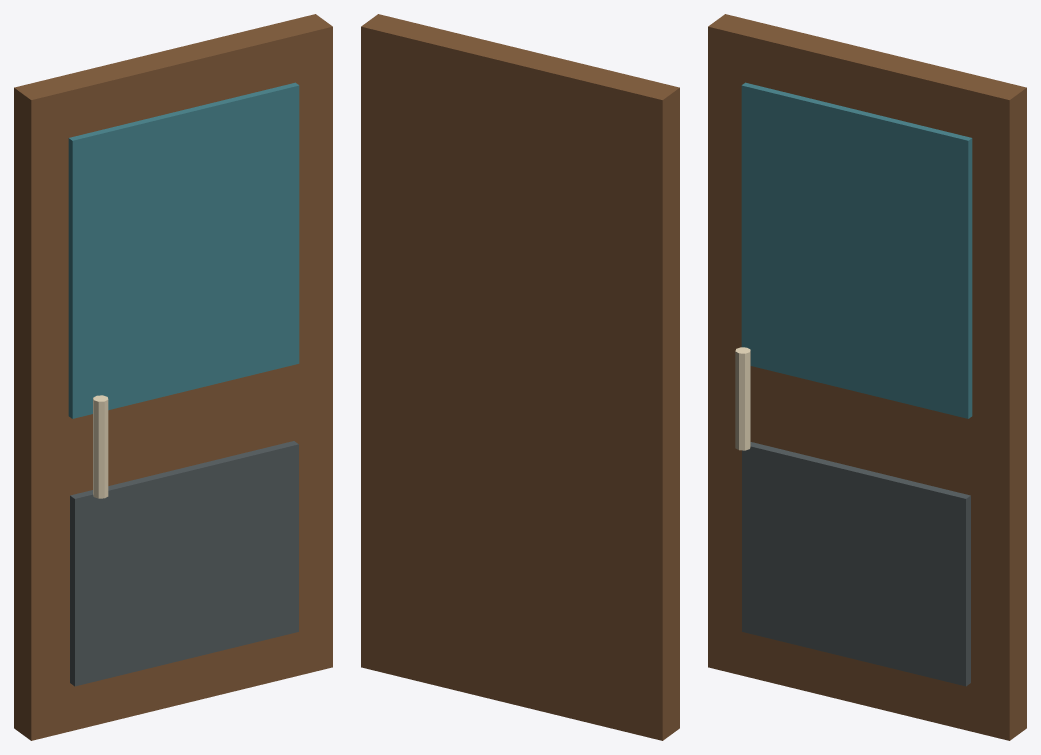
Rendered from SM_Dormitory_Door_Right.fbx.
3 views of the same model, side by side, from view 1: azimuth 30°, elevation 25°; view 2: azimuth 150°, elevation 25°; view 3: azimuth 330°, elevation 25° (orthographic).
Parts seen in each view (by area): view 1: DORM_14_Entry_Door_Right.001; view 2: DORM_14_Entry_Door_Right.001; view 3: DORM_14_Entry_Door_Right.001.
Boxes of the visible parts, x1,y1,x2,y2 form: DORM_14_Entry_Door_Right.001: (14,14,332,740); DORM_14_Entry_Door_Right.001: (361,14,679,740); DORM_14_Entry_Door_Right.001: (708,14,1026,740).
Bounding box in the file's own units: 101 × 22.3 × 205.
